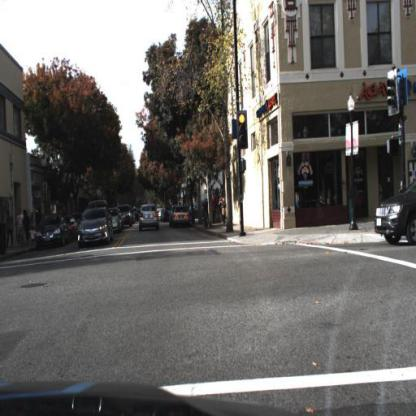car: (374, 174, 416, 253), (78, 208, 113, 247), (38, 215, 70, 249), (139, 200, 161, 233), (172, 207, 192, 229), (112, 208, 125, 235), (124, 204, 136, 231)
pedestrian: (406, 168, 416, 233), (37, 203, 45, 249), (5, 211, 14, 251), (16, 209, 25, 249), (22, 207, 30, 249), (6, 210, 14, 249), (17, 210, 25, 248), (212, 191, 217, 225), (220, 193, 225, 227), (29, 225, 36, 247), (224, 198, 229, 227)
trafficLight: (238, 112, 248, 152)
